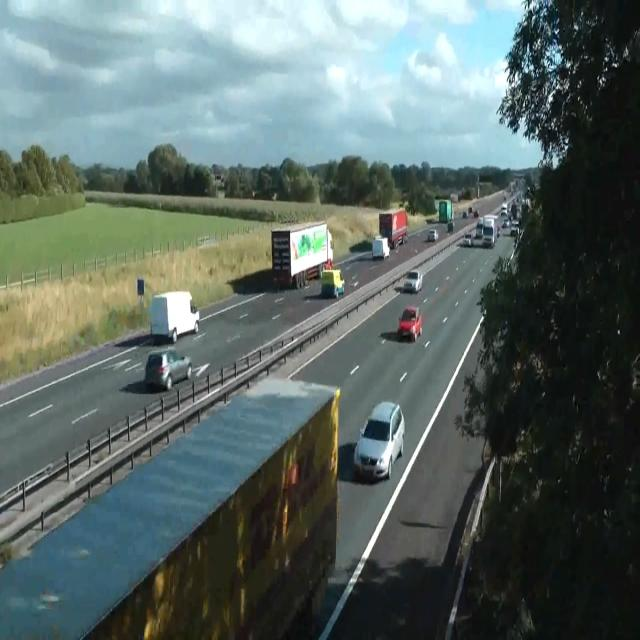bus: (353, 400, 405, 483), (144, 348, 192, 391), (398, 305, 422, 341), (403, 270, 423, 292), (475, 218, 483, 237), (428, 228, 438, 242), (463, 232, 473, 246), (500, 203, 508, 215), (502, 217, 510, 227), (473, 209, 479, 218), (461, 210, 467, 218), (496, 225, 500, 236)
car: (1, 375, 340, 638)
jeep: (320, 268, 344, 298)
minibus: (270, 220, 334, 290), (149, 290, 199, 344), (378, 208, 408, 249), (434, 196, 454, 223), (372, 234, 390, 260), (482, 215, 496, 247)
